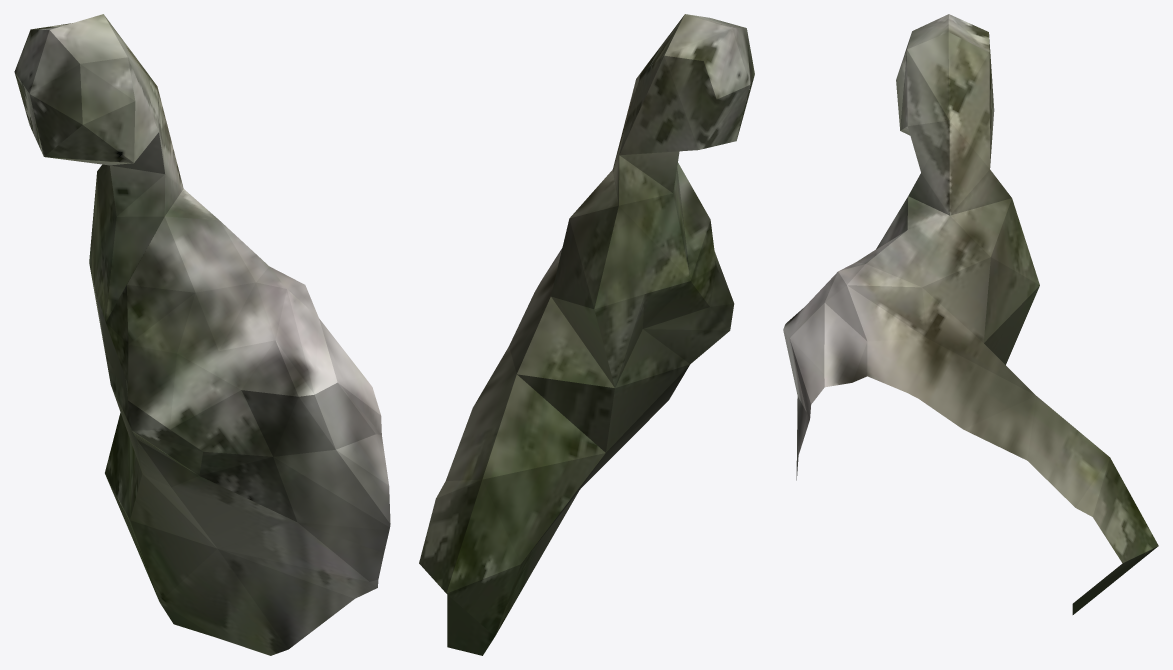
3 views of the same model, side by side, from view 1: azimuth 30°, elevation 25°; view 2: azimuth 150°, elevation 25°; view 3: azimuth 270°, elevation 25° (orthographic). The views are drawn at different scales.
Bounding box in the file's own units: 0.8719 × 2.23 × 1.38.
Materials: 1 (1 with a texture image).
